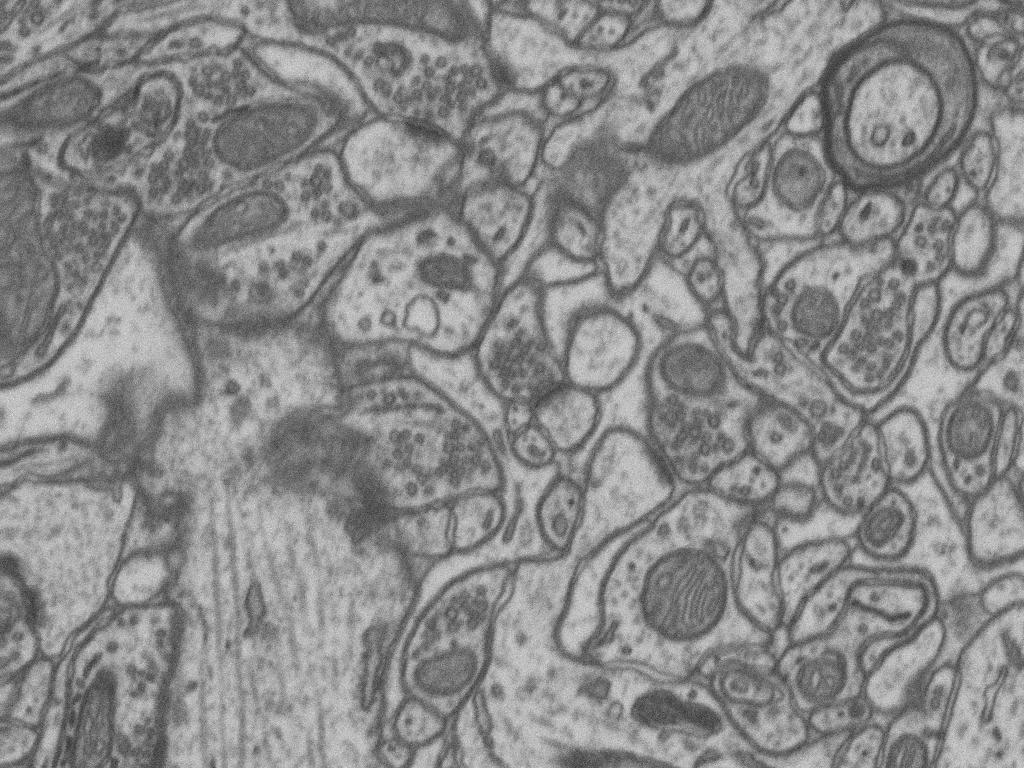mitochondria: (602, 82, 750, 207), (146, 185, 298, 292), (62, 627, 159, 768), (631, 549, 735, 653), (175, 319, 282, 419), (221, 82, 335, 172), (0, 72, 106, 165), (0, 169, 58, 320), (512, 720, 692, 768), (668, 350, 756, 423), (78, 350, 165, 423), (764, 142, 831, 215), (288, 0, 410, 39), (938, 407, 1004, 473), (402, 656, 476, 713), (787, 288, 849, 352), (785, 661, 848, 719), (393, 248, 455, 305), (878, 723, 938, 768)
